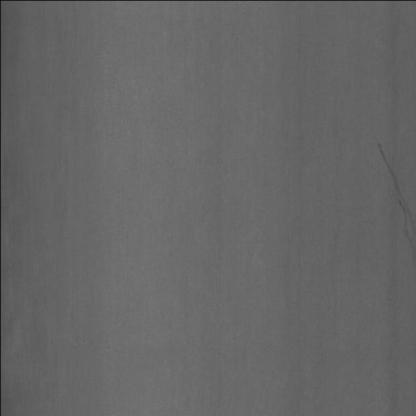water_spot: (372, 129, 416, 245)
